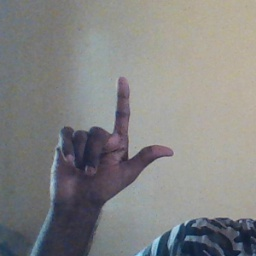L: (47, 75, 175, 203)
